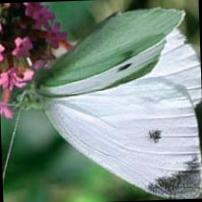butterfly: (19, 8, 202, 199)
